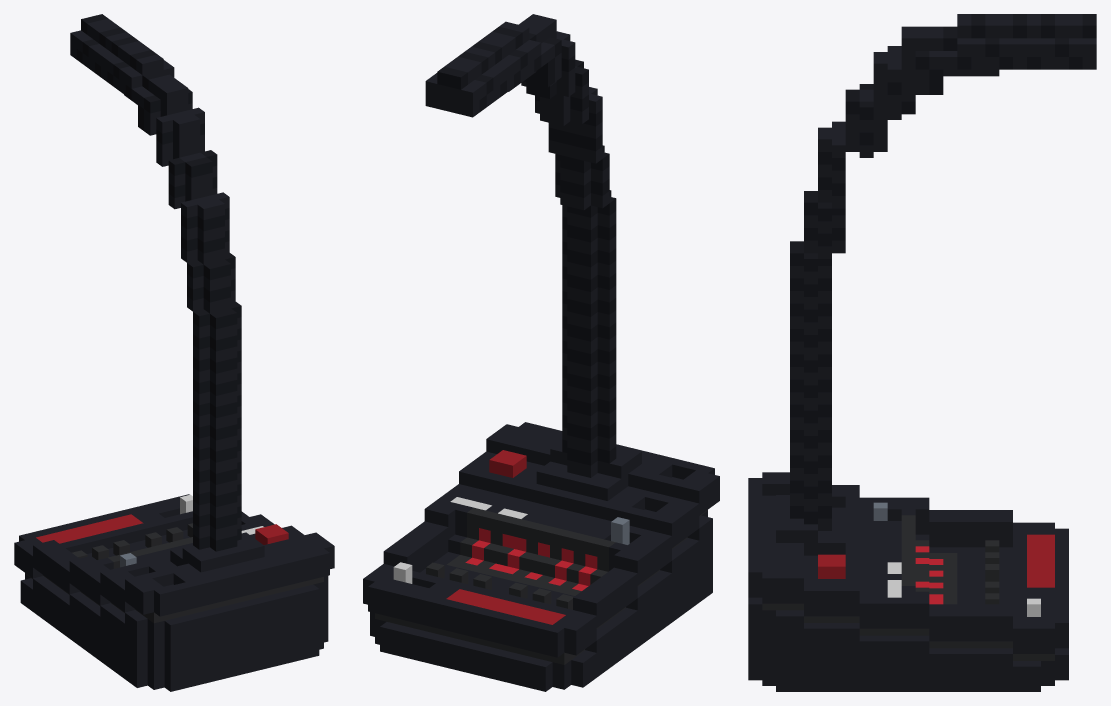
File: flexo.glb
3 renders of one model, left to right at view 1: azimuth 30°, elevation 25°; view 2: azimuth 150°, elevation 25°; view 3: azimuth 270°, elevation 25°, orthographic. The views are drawn at different scales.
Parts seen in each view (by area): view 1: model; view 2: model; view 3: model.
Part boxes in pixels (x1,y1,x2,y2): model: (14,14,334,691); model: (363,14,719,691); model: (748,14,1096,691).
Size of the model in its own units: 1.8 by 4.9 by 2.5.
